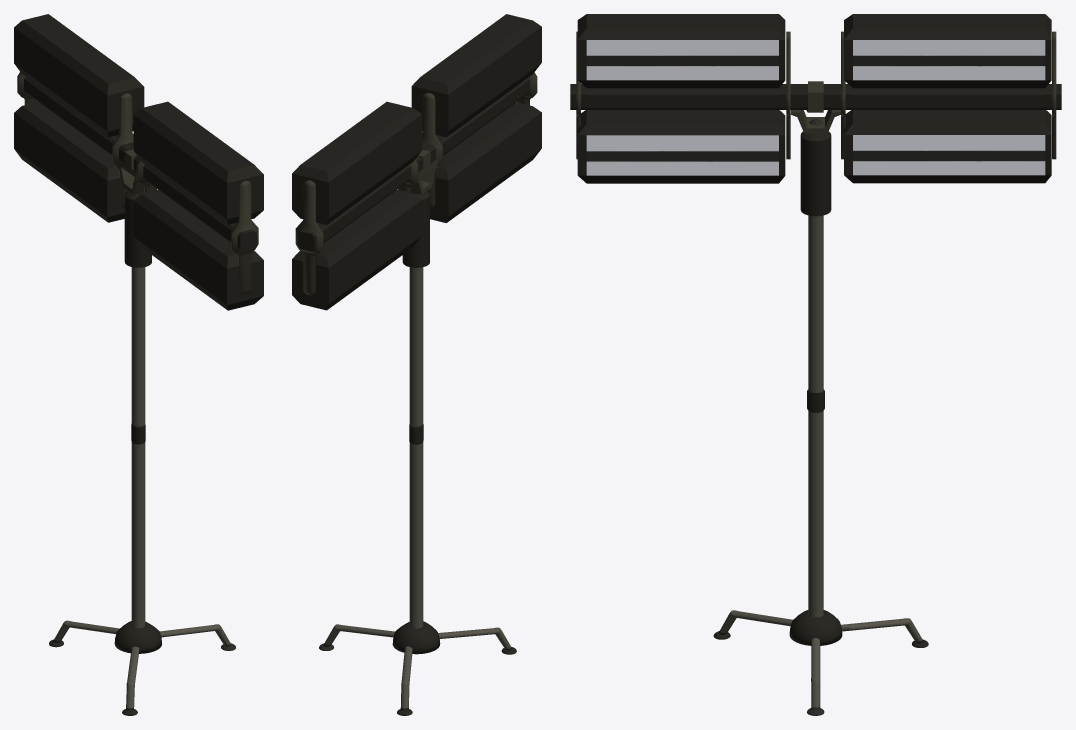
The model's file is Spotlight.obj.
3 renders of one model, left to right at view 1: azimuth 30°, elevation 25°; view 2: azimuth 150°, elevation 25°; view 3: azimuth 270°, elevation 25°, orthographic. The views are drawn at different scales.
Visible parts, largest first — view 1: Cube.007_Cube.017, Cube.005_Cube.016, Cube.008_Cube.018, Cube.006_Cube.009, Cylinder, Cube_Cube.002, Cube.004_Cube.006, Sphere, Cylinder.001, Cube.001_Cube.003, Cube.009_Cube.012, Cube.011_Cube.014 (+2 smaller); view 2: Cube.005_Cube.016, Cube.007_Cube.017, Cube.006_Cube.009, Cube.008_Cube.018, Cylinder, Cube_Cube.002, Cube.002_Cube.004, Sphere, Cube.003_Cube.005, Cylinder.001, Cube.009_Cube.012, Cube.011_Cube.014 (+2 smaller); view 3: Cube.007_Cube.017, Cube.005_Cube.016, Cube.008_Cube.018, Cube.006_Cube.009, Cube_Cube.002, Cylinder, Cylinder.001, Sphere, Cube.009_Cube.012, Cube.012_Cube.015, Cube.010_Cube.013.
Boxes of the visible parts, x1,y1,x2,y2 form: Cube.007_Cube.017: [133, 101, 263, 224]; Cube.005_Cube.016: [14, 14, 144, 137]; Cube.008_Cube.018: [133, 190, 263, 310]; Cube.006_Cube.009: [14, 102, 124, 222]; Cylinder: [131, 267, 145, 628]; Cube_Cube.002: [24, 77, 256, 251]; Cube.004_Cube.006: [231, 180, 258, 294]; Sphere: [114, 621, 161, 653]; Cylinder.001: [124, 194, 151, 267]; Cube.001_Cube.003: [112, 93, 133, 207]; Cube.009_Cube.012: [116, 149, 143, 194]; Cube.011_Cube.014: [122, 646, 139, 715]; Cube.005_Cube.016: [292, 101, 422, 224]; Cube.007_Cube.017: [411, 14, 541, 137]; Cube.006_Cube.009: [292, 189, 422, 310]; Cube.008_Cube.018: [430, 102, 541, 222]; Cylinder: [409, 267, 423, 628]; Cube_Cube.002: [297, 77, 530, 251]; Cube.002_Cube.004: [295, 180, 323, 295]; Sphere: [392, 621, 440, 654]; Cube.003_Cube.005: [422, 92, 442, 207]; Cylinder.001: [402, 196, 429, 267]; Cube.009_Cube.012: [411, 149, 437, 194]; Cube.011_Cube.014: [438, 627, 516, 654]; Cube.007_Cube.017: [577, 14, 785, 88]; Cube.005_Cube.016: [844, 14, 1051, 88]; Cube.008_Cube.018: [577, 110, 785, 183]; Cube.006_Cube.009: [844, 110, 1051, 183]; Cube_Cube.002: [570, 84, 1061, 109]; Cylinder: [807, 215, 824, 617]; Cylinder.001: [800, 135, 831, 216]; Sphere: [789, 610, 842, 645]; Cube.009_Cube.012: [791, 81, 840, 133]; Cube.012_Cube.015: [807, 638, 824, 715]; Cube.010_Cube.013: [841, 618, 928, 647].
Size of the model in its own units: 1.35 by 4.84 by 3.35.
